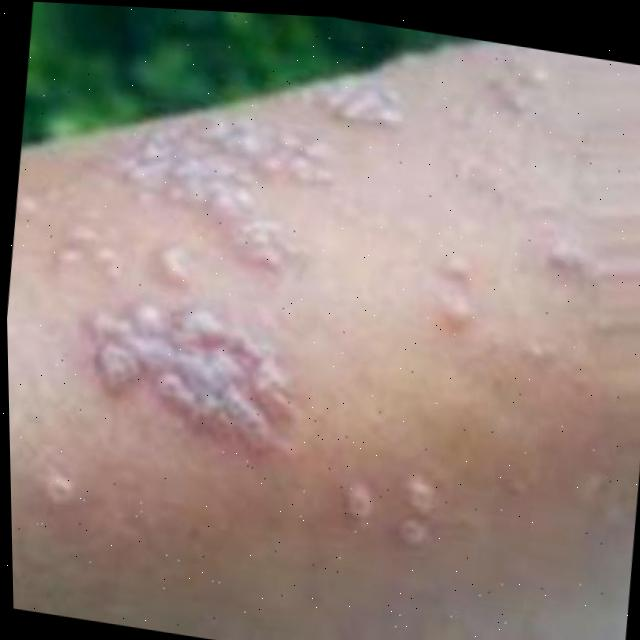Shingles: (57, 37, 397, 475), (335, 470, 435, 545)
